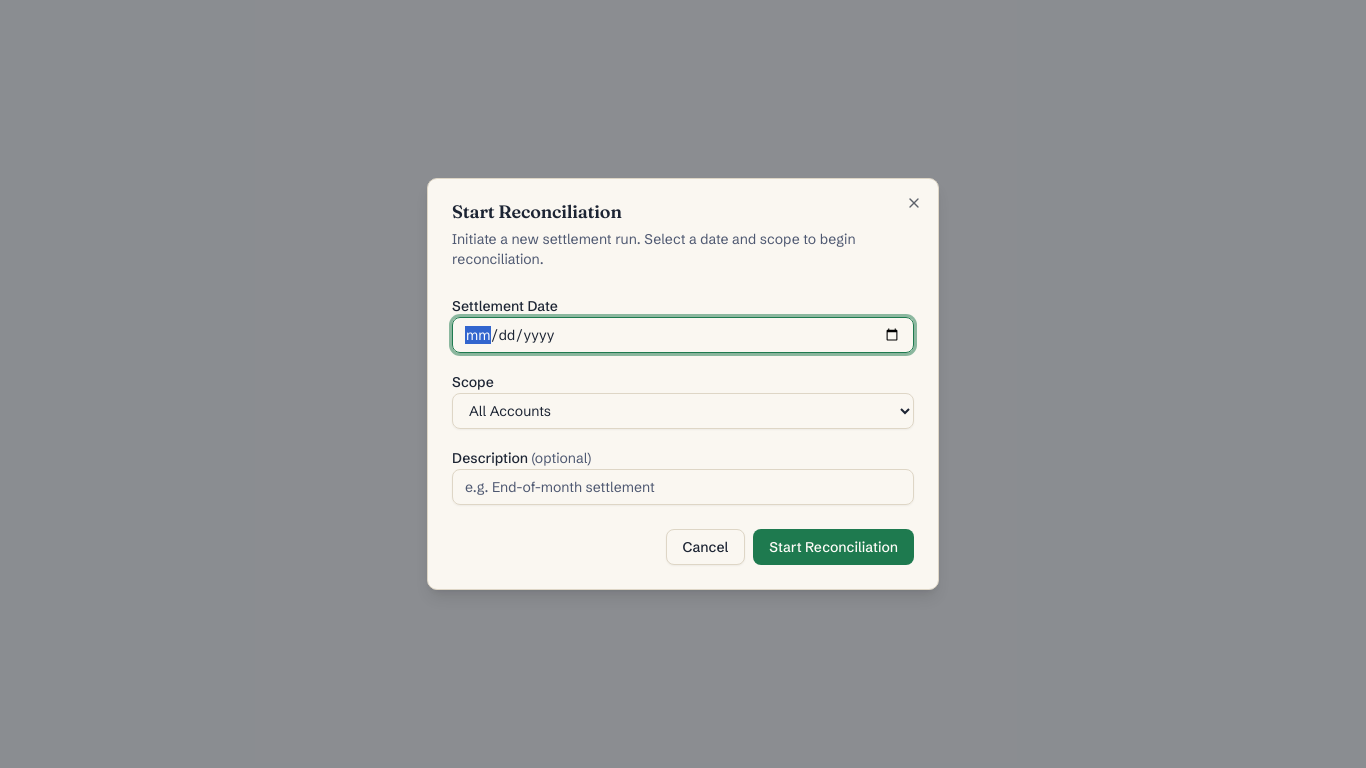
InitiateReconciliationDialog › scope selection and conditional account ID › hides account ID input when scope switches back to ALL_ACCOUNTS
Step 1. Select "Selected Accounts" in the dropdown labelled "Scope" → (683, 411), box [452, 393, 914, 429]
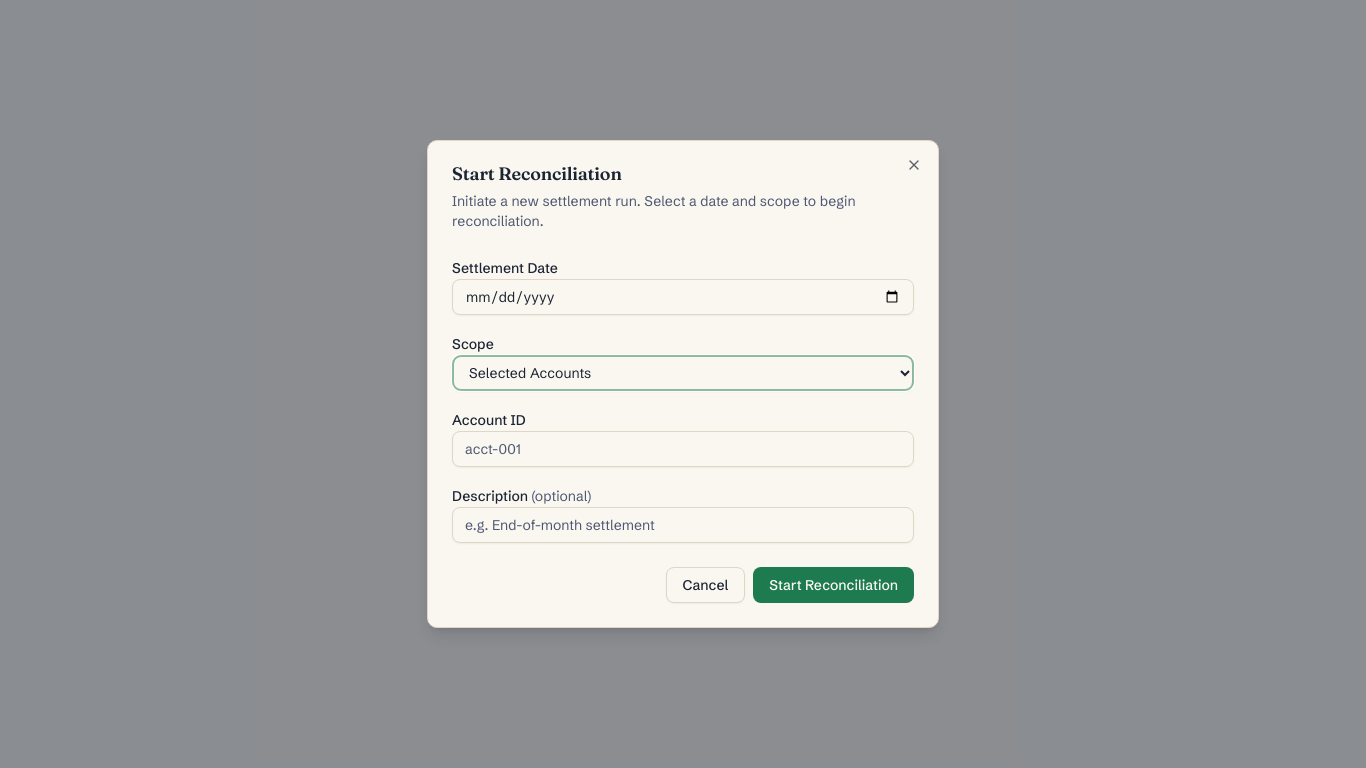
Expected: the field labelled "Account ID" is shown, [452, 431, 914, 467]
Step 2. Select "All Accounts" in the dropdown labelled "Scope" → (683, 373), box [452, 355, 914, 391]
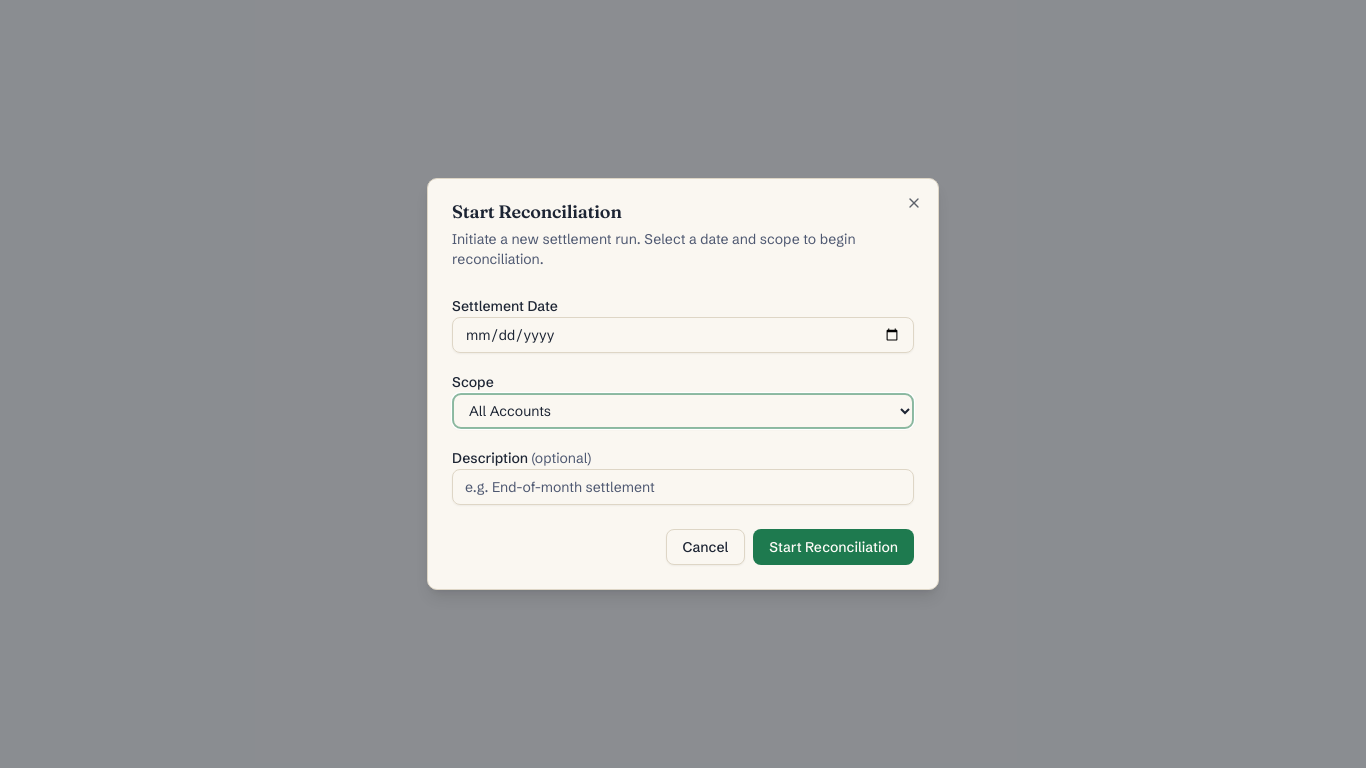
Expected: the label labelled "Account ID" is gone
